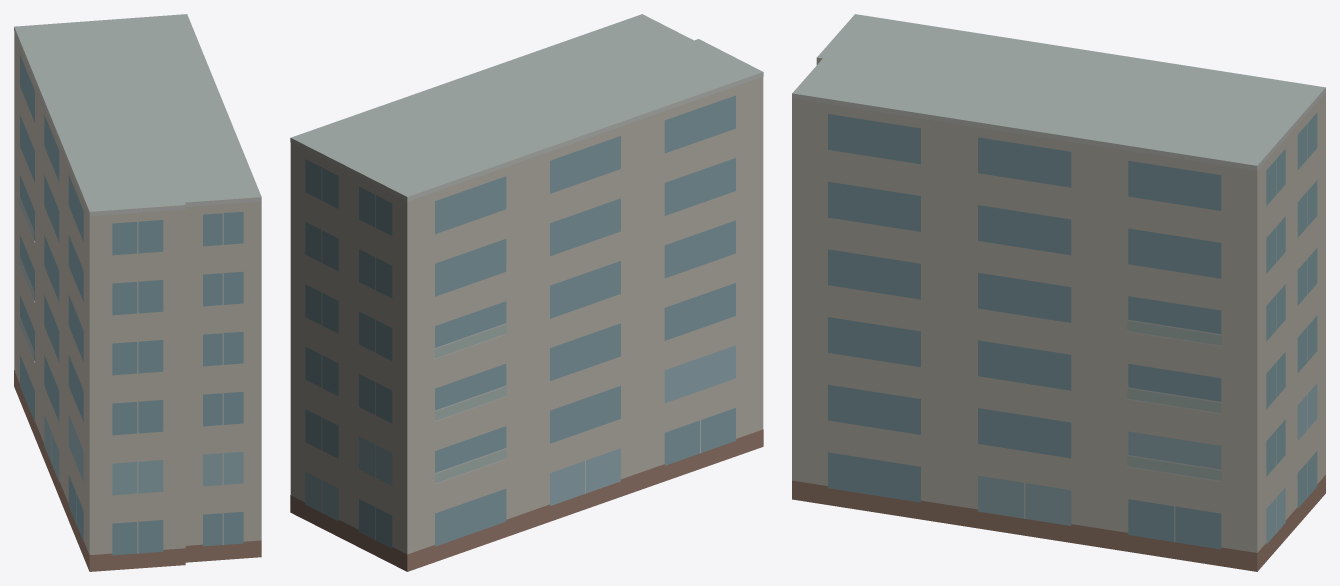
Rendered from survey-upis-32627893.glb.
3 views of the same model, side by side, from view 1: azimuth 30°, elevation 25°; view 2: azimuth 150°, elevation 25°; view 3: azimuth 270°, elevation 25° (orthographic). The views are drawn at different scales.
Visible parts, largest first — view 1: survey-upis-32627893.tmp; view 2: survey-upis-32627893.tmp; view 3: survey-upis-32627893.tmp.
Boxes of the visible parts, x1,y1,x2,y2 form: survey-upis-32627893.tmp: [14, 14, 261, 571]; survey-upis-32627893.tmp: [290, 14, 763, 571]; survey-upis-32627893.tmp: [792, 14, 1325, 571].
Bounding box in the file's own units: 15.89 × 19.8 × 23.6.
